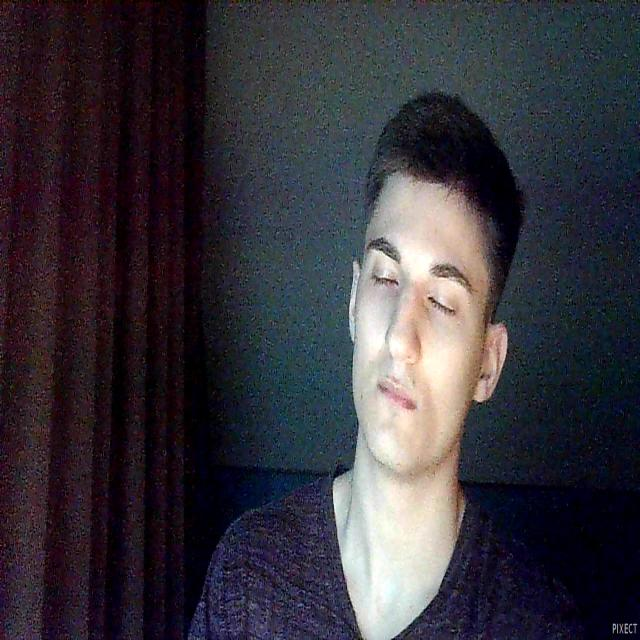Eyeclosed: (426, 292, 456, 324), (371, 268, 399, 298)
